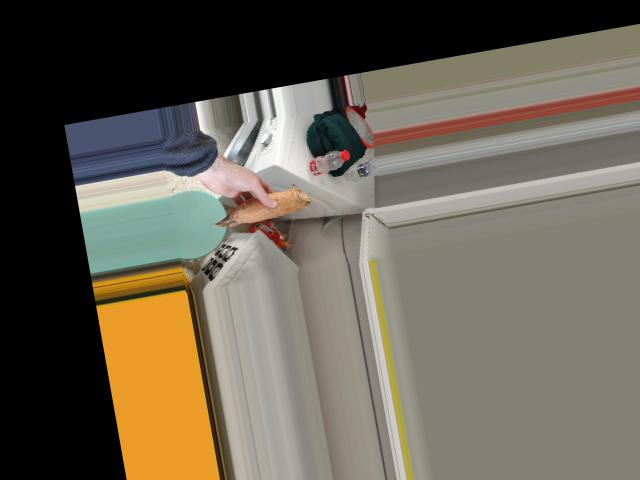sweet_potato: (217, 184, 303, 227)
